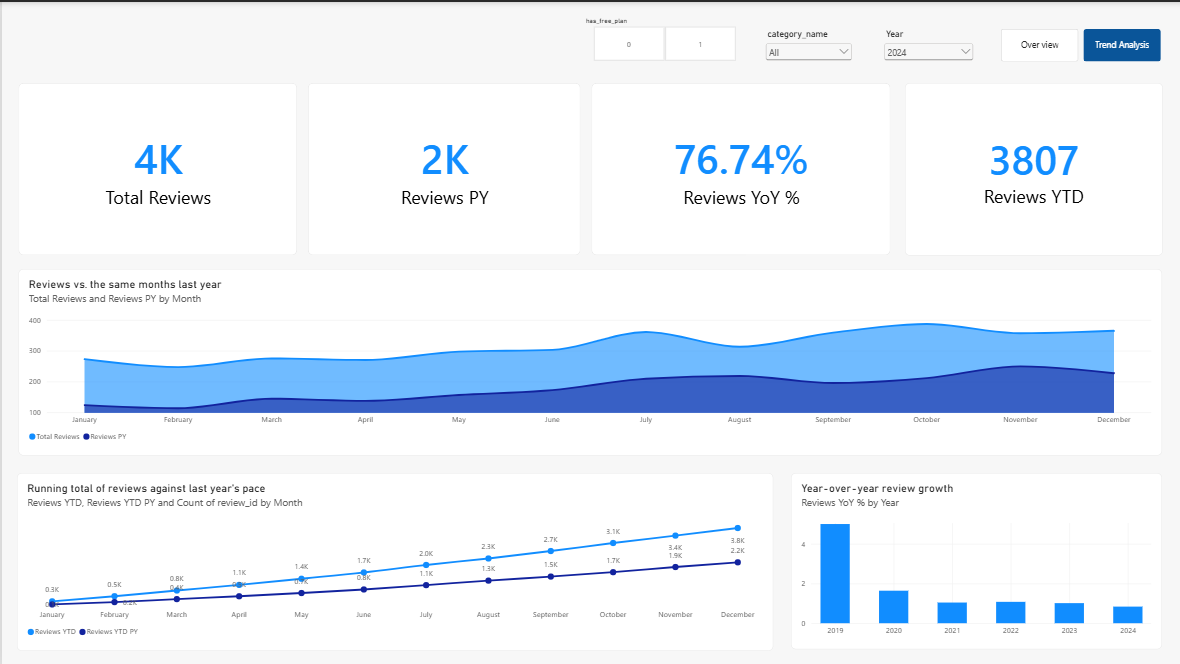

The page's visual inventory and layout, read from the dashboard file:
{"tool":"powerbi","page":{"name":"Trend Analysis","canvas":[1920,1080],"ordinal":1},"visuals":[{"type":"pageNavigator","box":[1625,45,260,53.3],"z":0},{"type":"slicer","fields":{"Values":["dim_date.Year"]},"box":[1430,45,155,83.3],"z":1},{"type":"slicer","fields":{"Values":["apps.category_name"]},"box":[1237.5,45,150,67.5],"z":2},{"type":"slicer","fields":{"Values":["apps.has_free_plan"]},"box":[942.5,25,270,72.5],"z":3},{"type":"areaChart","title":"Reviews vs. the same months last year","fields":{"Category":["dim_date.Month"],"Y":["apps.Total Reviews","apps.Reviews PY"]},"box":[26.7,433.3,1860,303.3],"z":4},{"type":"cardVisual","fields":{"Data":["apps.Reviews YoY %"]},"box":[960,131.7,486.7,280],"z":5},{"type":"cardVisual","fields":{"Data":["apps.Reviews PY"]},"box":[498.3,131.7,443.3,280],"z":6},{"type":"cardVisual","fields":{"Data":["apps.Total Reviews"]},"box":[26,131,453.5,280.6],"z":7},{"type":"card","fields":{"Values":["apps.Reviews YTD"]},"box":[1468.4,130.9,419.5,280.6],"z":8},{"type":"lineChart","title":"Running total of reviews against last year''s pace","fields":{"Category":["dim_date.Month"],"Y":["apps.Reviews YTD","apps.Reviews YTD PY"]},"box":[25.5,765.4,1230.2,289.1],"z":9},{"type":"clusteredColumnChart","title":"Year-over-year review growth","fields":{"Category":["dim_date.Year"],"Y":["apps.Reviews YoY %"]},"box":[1283.3,766.7,603.3,286.7],"z":10}]}

Visuals, with their boxes on the page's 1920x1080 design canvas (x1, y1, x2, y2). These are canvas units, not pixel positions in the 1180x664 screenshot, which may show the page scaled, cropped or inside an application window:
pageNavigator: pyautogui.locateOnScreen(1625, 45, 1885, 98)
slicer - dim_date.Year: pyautogui.locateOnScreen(1430, 45, 1585, 128)
slicer - apps.category_name: pyautogui.locateOnScreen(1238, 45, 1388, 112)
slicer - apps.has_free_plan: pyautogui.locateOnScreen(942, 25, 1212, 98)
"Reviews vs. the same months last year" areaChart: pyautogui.locateOnScreen(27, 433, 1887, 737)
cardVisual - apps.Reviews YoY %: pyautogui.locateOnScreen(960, 132, 1447, 412)
cardVisual - apps.Reviews PY: pyautogui.locateOnScreen(498, 132, 942, 412)
cardVisual - apps.Total Reviews: pyautogui.locateOnScreen(26, 131, 480, 412)
card - apps.Reviews YTD: pyautogui.locateOnScreen(1468, 131, 1888, 412)
"Running total of reviews against last year''s pace" lineChart: pyautogui.locateOnScreen(26, 765, 1256, 1054)
"Year-over-year review growth" clusteredColumnChart: pyautogui.locateOnScreen(1283, 767, 1887, 1053)
